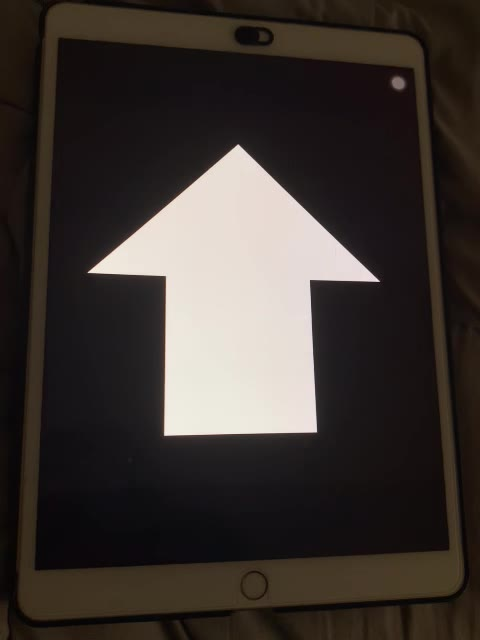up: (83, 138, 384, 442)
